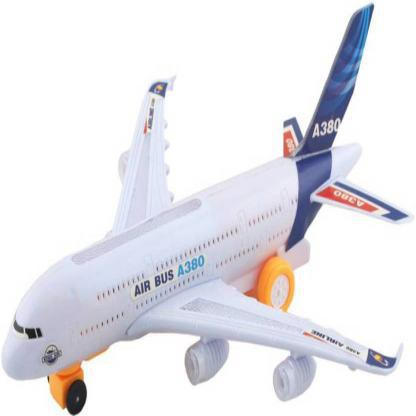CIV_Plane: (0, 1, 414, 410)
